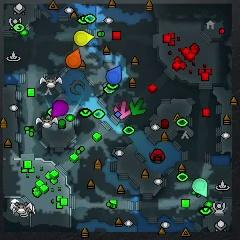p1: (106, 65, 122, 86)
p2: (192, 178, 208, 197)
p3: (52, 100, 69, 116)
p4: (74, 30, 94, 46)
p5: (66, 49, 81, 68)
x1: (114, 101, 131, 120)
x4: (130, 99, 146, 115)
